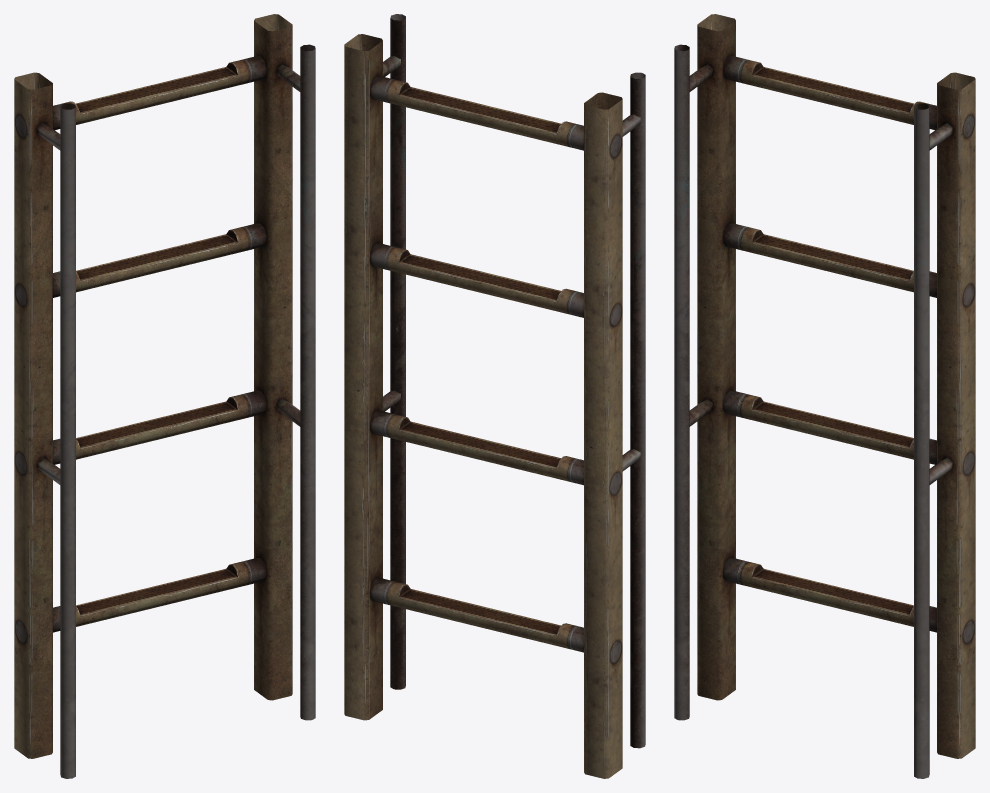
Rendered from 02_06_elevator_shaft_ladder.dae.
The picture shows the model from 3 angles, left to right: view 1: azimuth 30°, elevation 25°; view 2: azimuth 150°, elevation 25°; view 3: azimuth 330°, elevation 25°; orthographic projection.
Visible parts, largest first — view 1: ladder_long_pplant1, ladder_long_pplant; view 2: ladder_long_pplant1, ladder_long_pplant; view 3: ladder_long_pplant1, ladder_long_pplant.
Part boxes in pixels (box(x1,y1,x2,y2)): ladder_long_pplant1: box(14, 14, 315, 778); ladder_long_pplant: box(53, 558, 266, 632); ladder_long_pplant1: box(344, 14, 645, 778); ladder_long_pplant: box(370, 577, 583, 652); ladder_long_pplant1: box(674, 14, 975, 778); ladder_long_pplant: box(723, 558, 936, 632).
Bounding box in the file's own units: 0.8281 × 2 × 0.2563.
